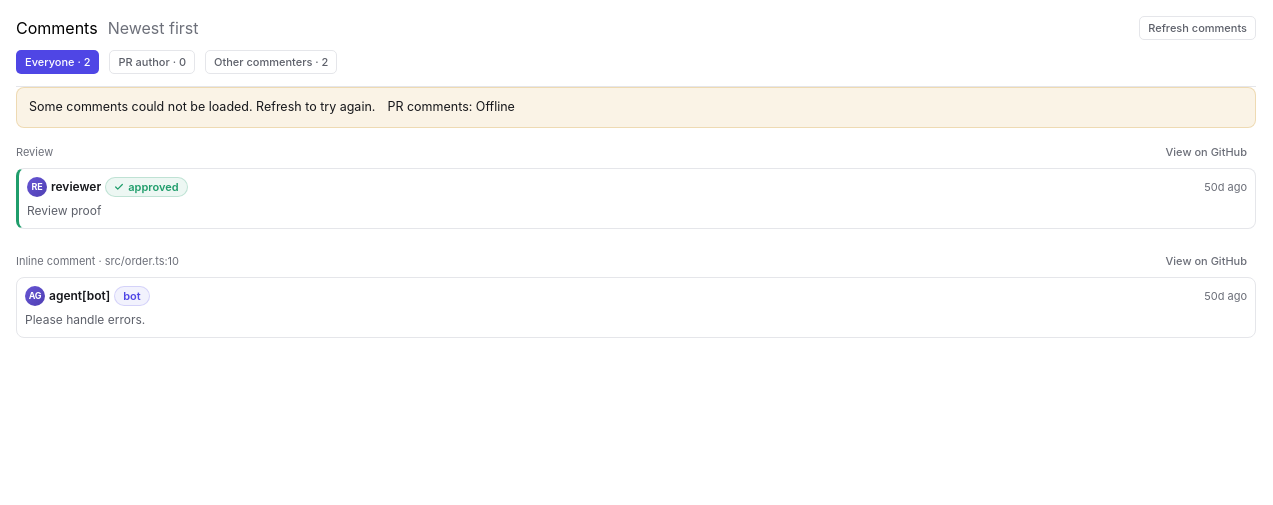
Scenario: Quick Review comments › shows partial failures and retries without presenting them as an empty conversation
The image size is (1273, 505).
Expected: the text "PR comments: Offline" is shown, [387, 98, 515, 117]
Expected: the text "Please handle errors." is shown, [25, 312, 145, 327]
Click the button "Refresh comments".
click(1198, 28)  # box [1139, 16, 1256, 40]
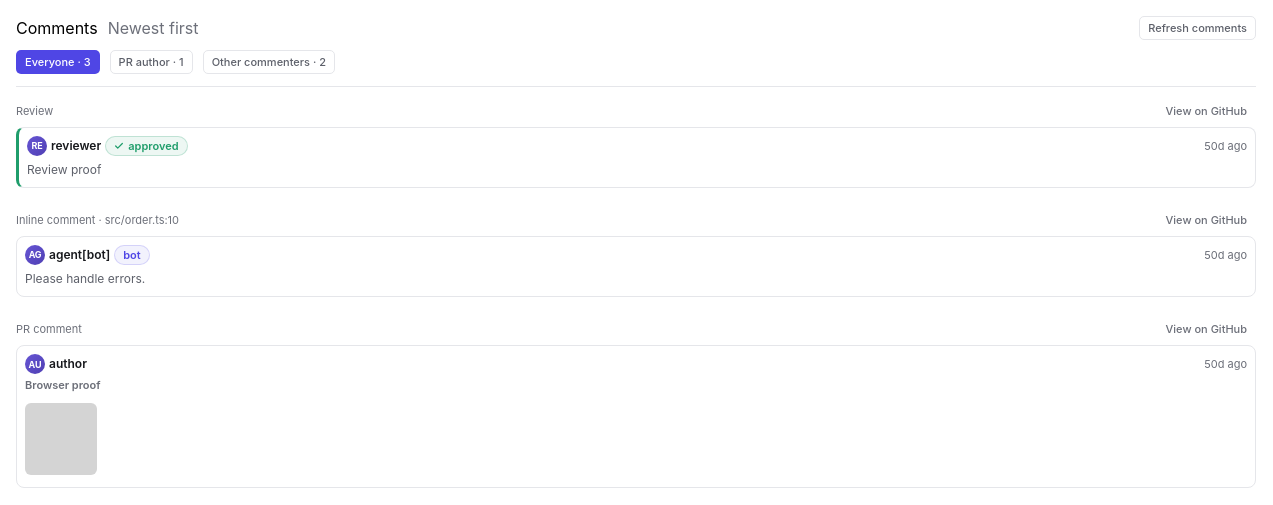
Expected: the heading "Browser proof" is shown, [25, 378, 100, 392]
Expected: the message "Some comments could not be loaded. Refresh to try again. PR comments: Offline" is gone
